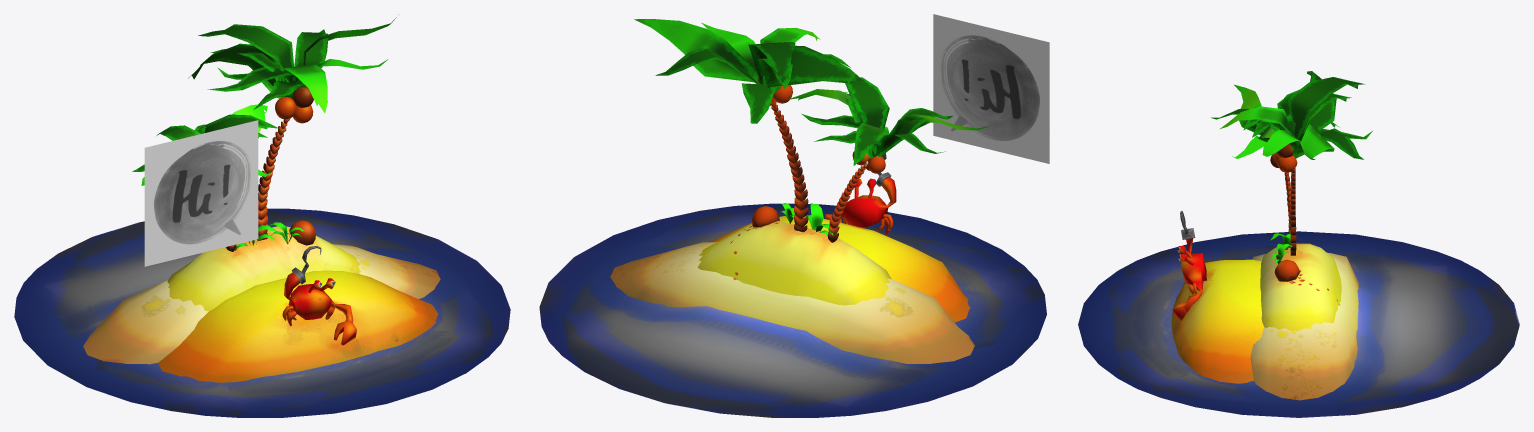
File: Desert_Island_diorama.glb
The picture shows the model from 3 angles, left to right: view 1: azimuth 30°, elevation 25°; view 2: azimuth 150°, elevation 25°; view 3: azimuth 270°, elevation 25°; orthographic projection. The views are drawn at different scales.
Visible parts, largest first — view 1: unnamed; view 2: unnamed; view 3: unnamed.
Part boxes in pixels (bbox=[...]): unnamed: bbox=[14, 17, 510, 417]; unnamed: bbox=[539, 14, 1049, 417]; unnamed: bbox=[1078, 71, 1519, 417].
Size of the model in its own units: 43.5 by 26.55 by 43.54.
1 material, 1 textured.
